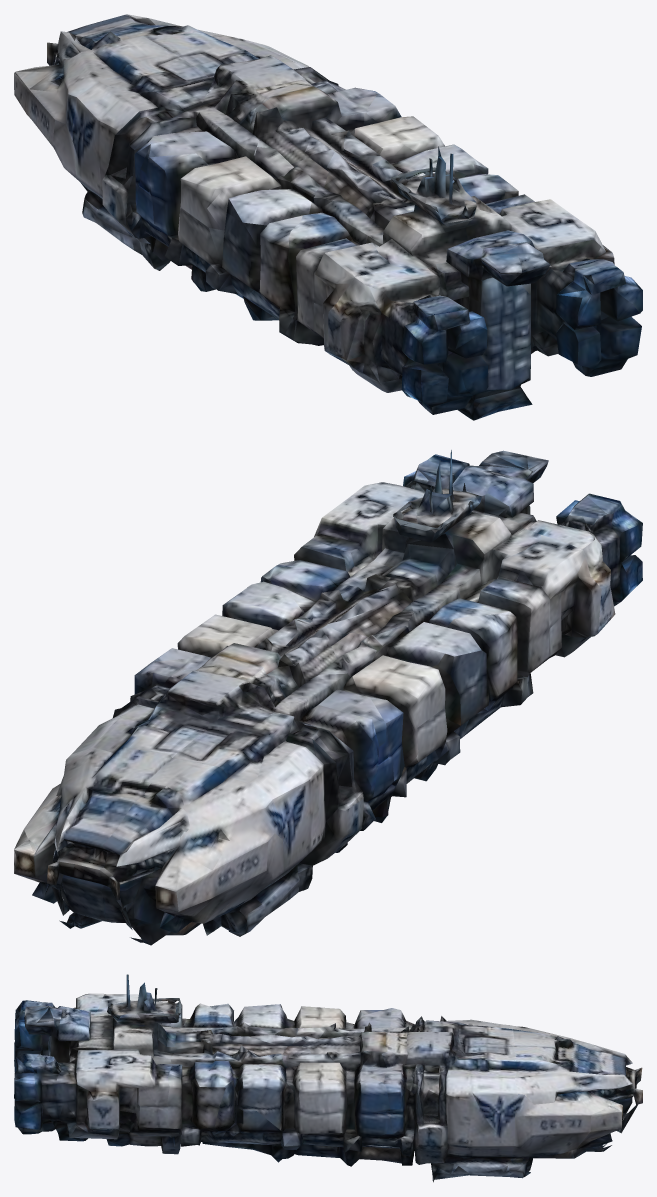
The model's file is carrier.glb.
3 views of the same model, one above another, from view 1: azimuth 30°, elevation 25°; view 2: azimuth 150°, elevation 25°; view 3: azimuth 270°, elevation 25° (orthographic). The views are drawn at different scales.
Visible parts, largest first — view 1: carrier; view 2: carrier; view 3: carrier.
Boxes of the visible parts, bbox=[...] form: carrier: bbox=[14, 14, 642, 420]; carrier: bbox=[14, 450, 642, 945]; carrier: bbox=[14, 974, 642, 1182].
Bounding box in the file's own units: 0.2394 × 0.2213 × 0.6843.
Materials: 1 (1 with a texture image).
